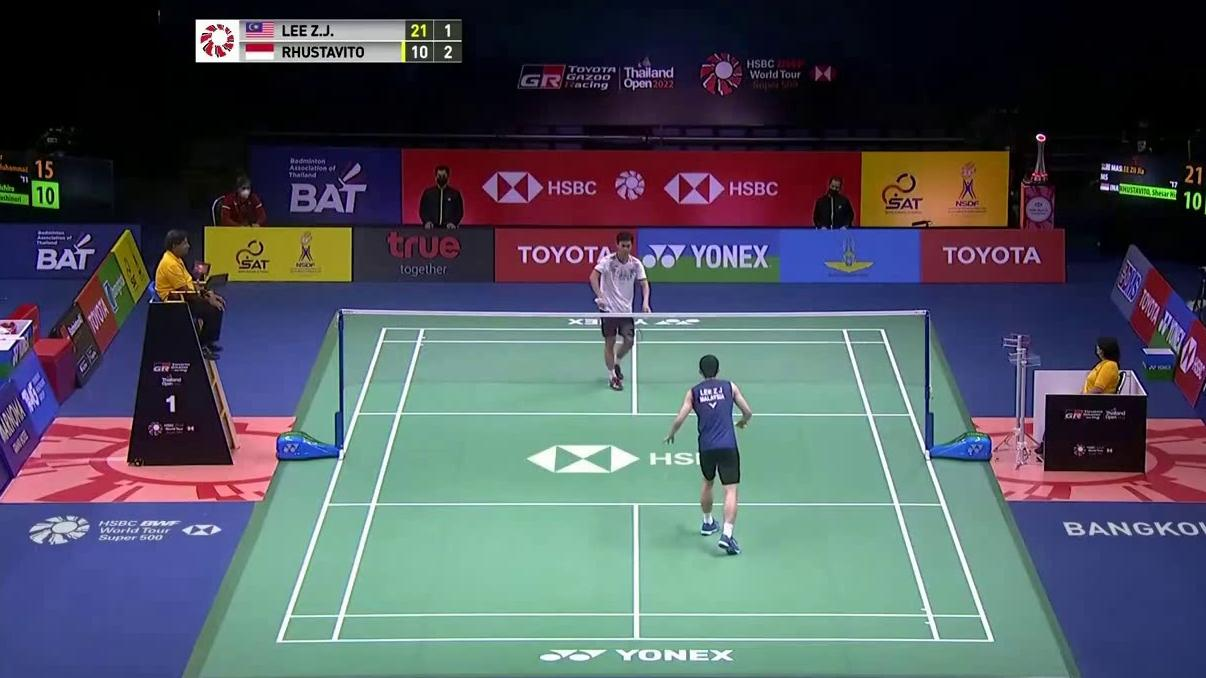racket: (593, 299, 642, 341)
